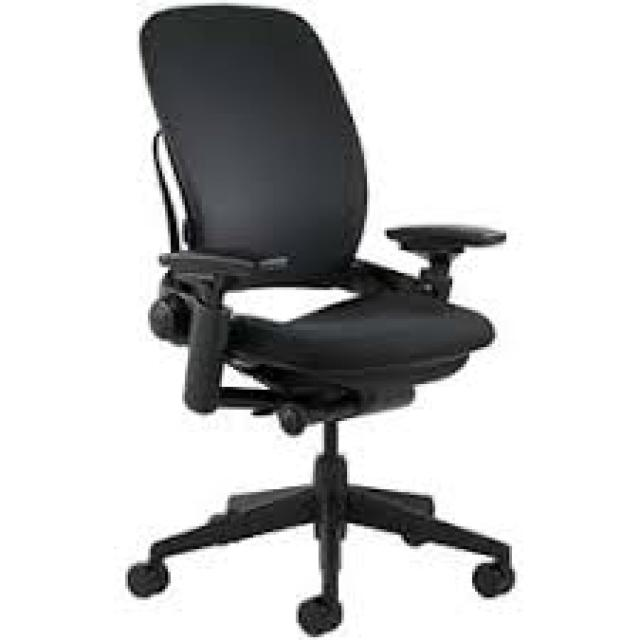chair: (12, 0, 577, 640)
